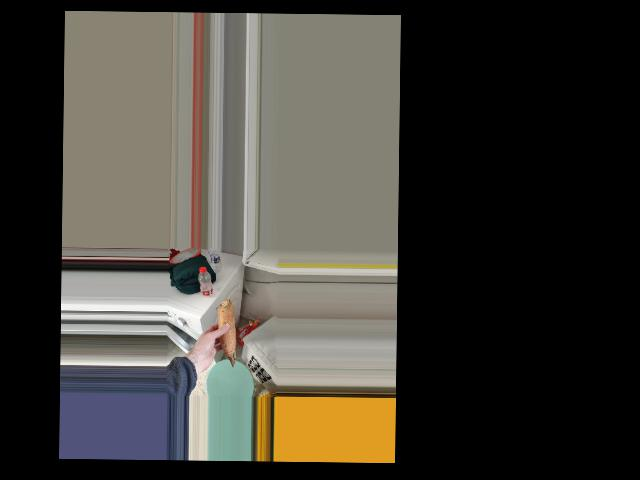sweet_potato: (214, 297, 237, 365)
